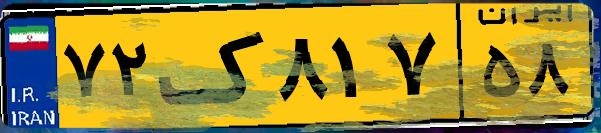1: (330, 28, 385, 110)
2: (110, 28, 158, 98)
5: (475, 38, 525, 113)
7: (385, 28, 445, 110), (57, 26, 110, 100)
8: (270, 28, 330, 110), (525, 38, 570, 115)
ک: (158, 12, 270, 120)
